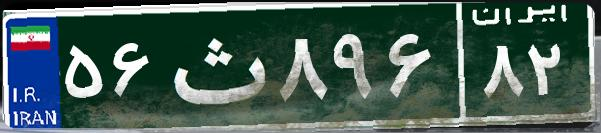2: (525, 38, 570, 115)
5: (57, 26, 110, 107)
6: (385, 28, 445, 110), (110, 28, 158, 105)
8: (273, 28, 330, 110), (475, 38, 525, 113)
9: (330, 28, 385, 110)
ث: (158, 15, 273, 115)
